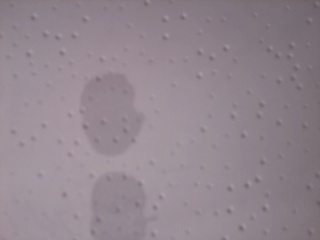Water_detected: (76, 90, 138, 237)
